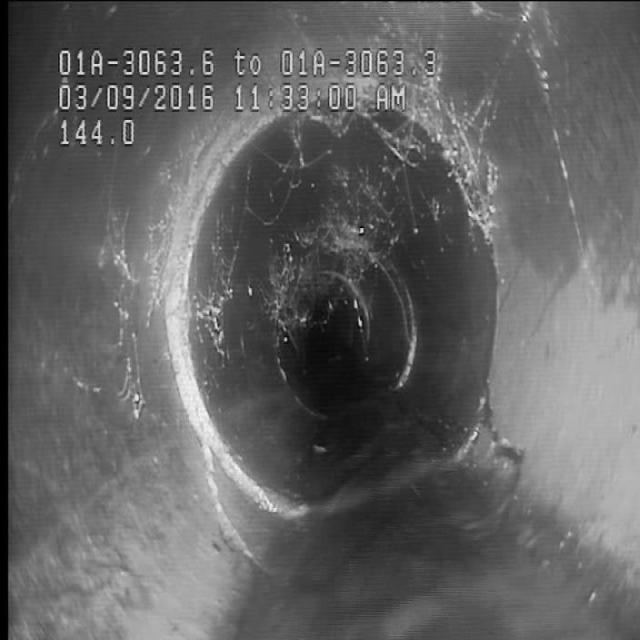Crack: (182, 438, 266, 570)
